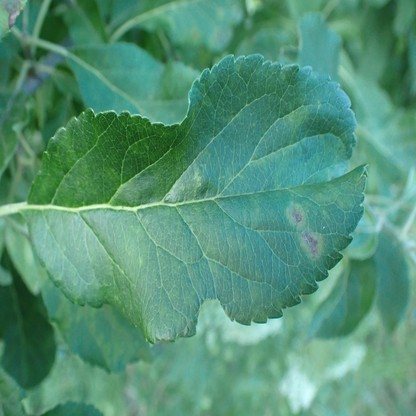scab: (299, 229, 321, 261), (286, 203, 306, 229)
